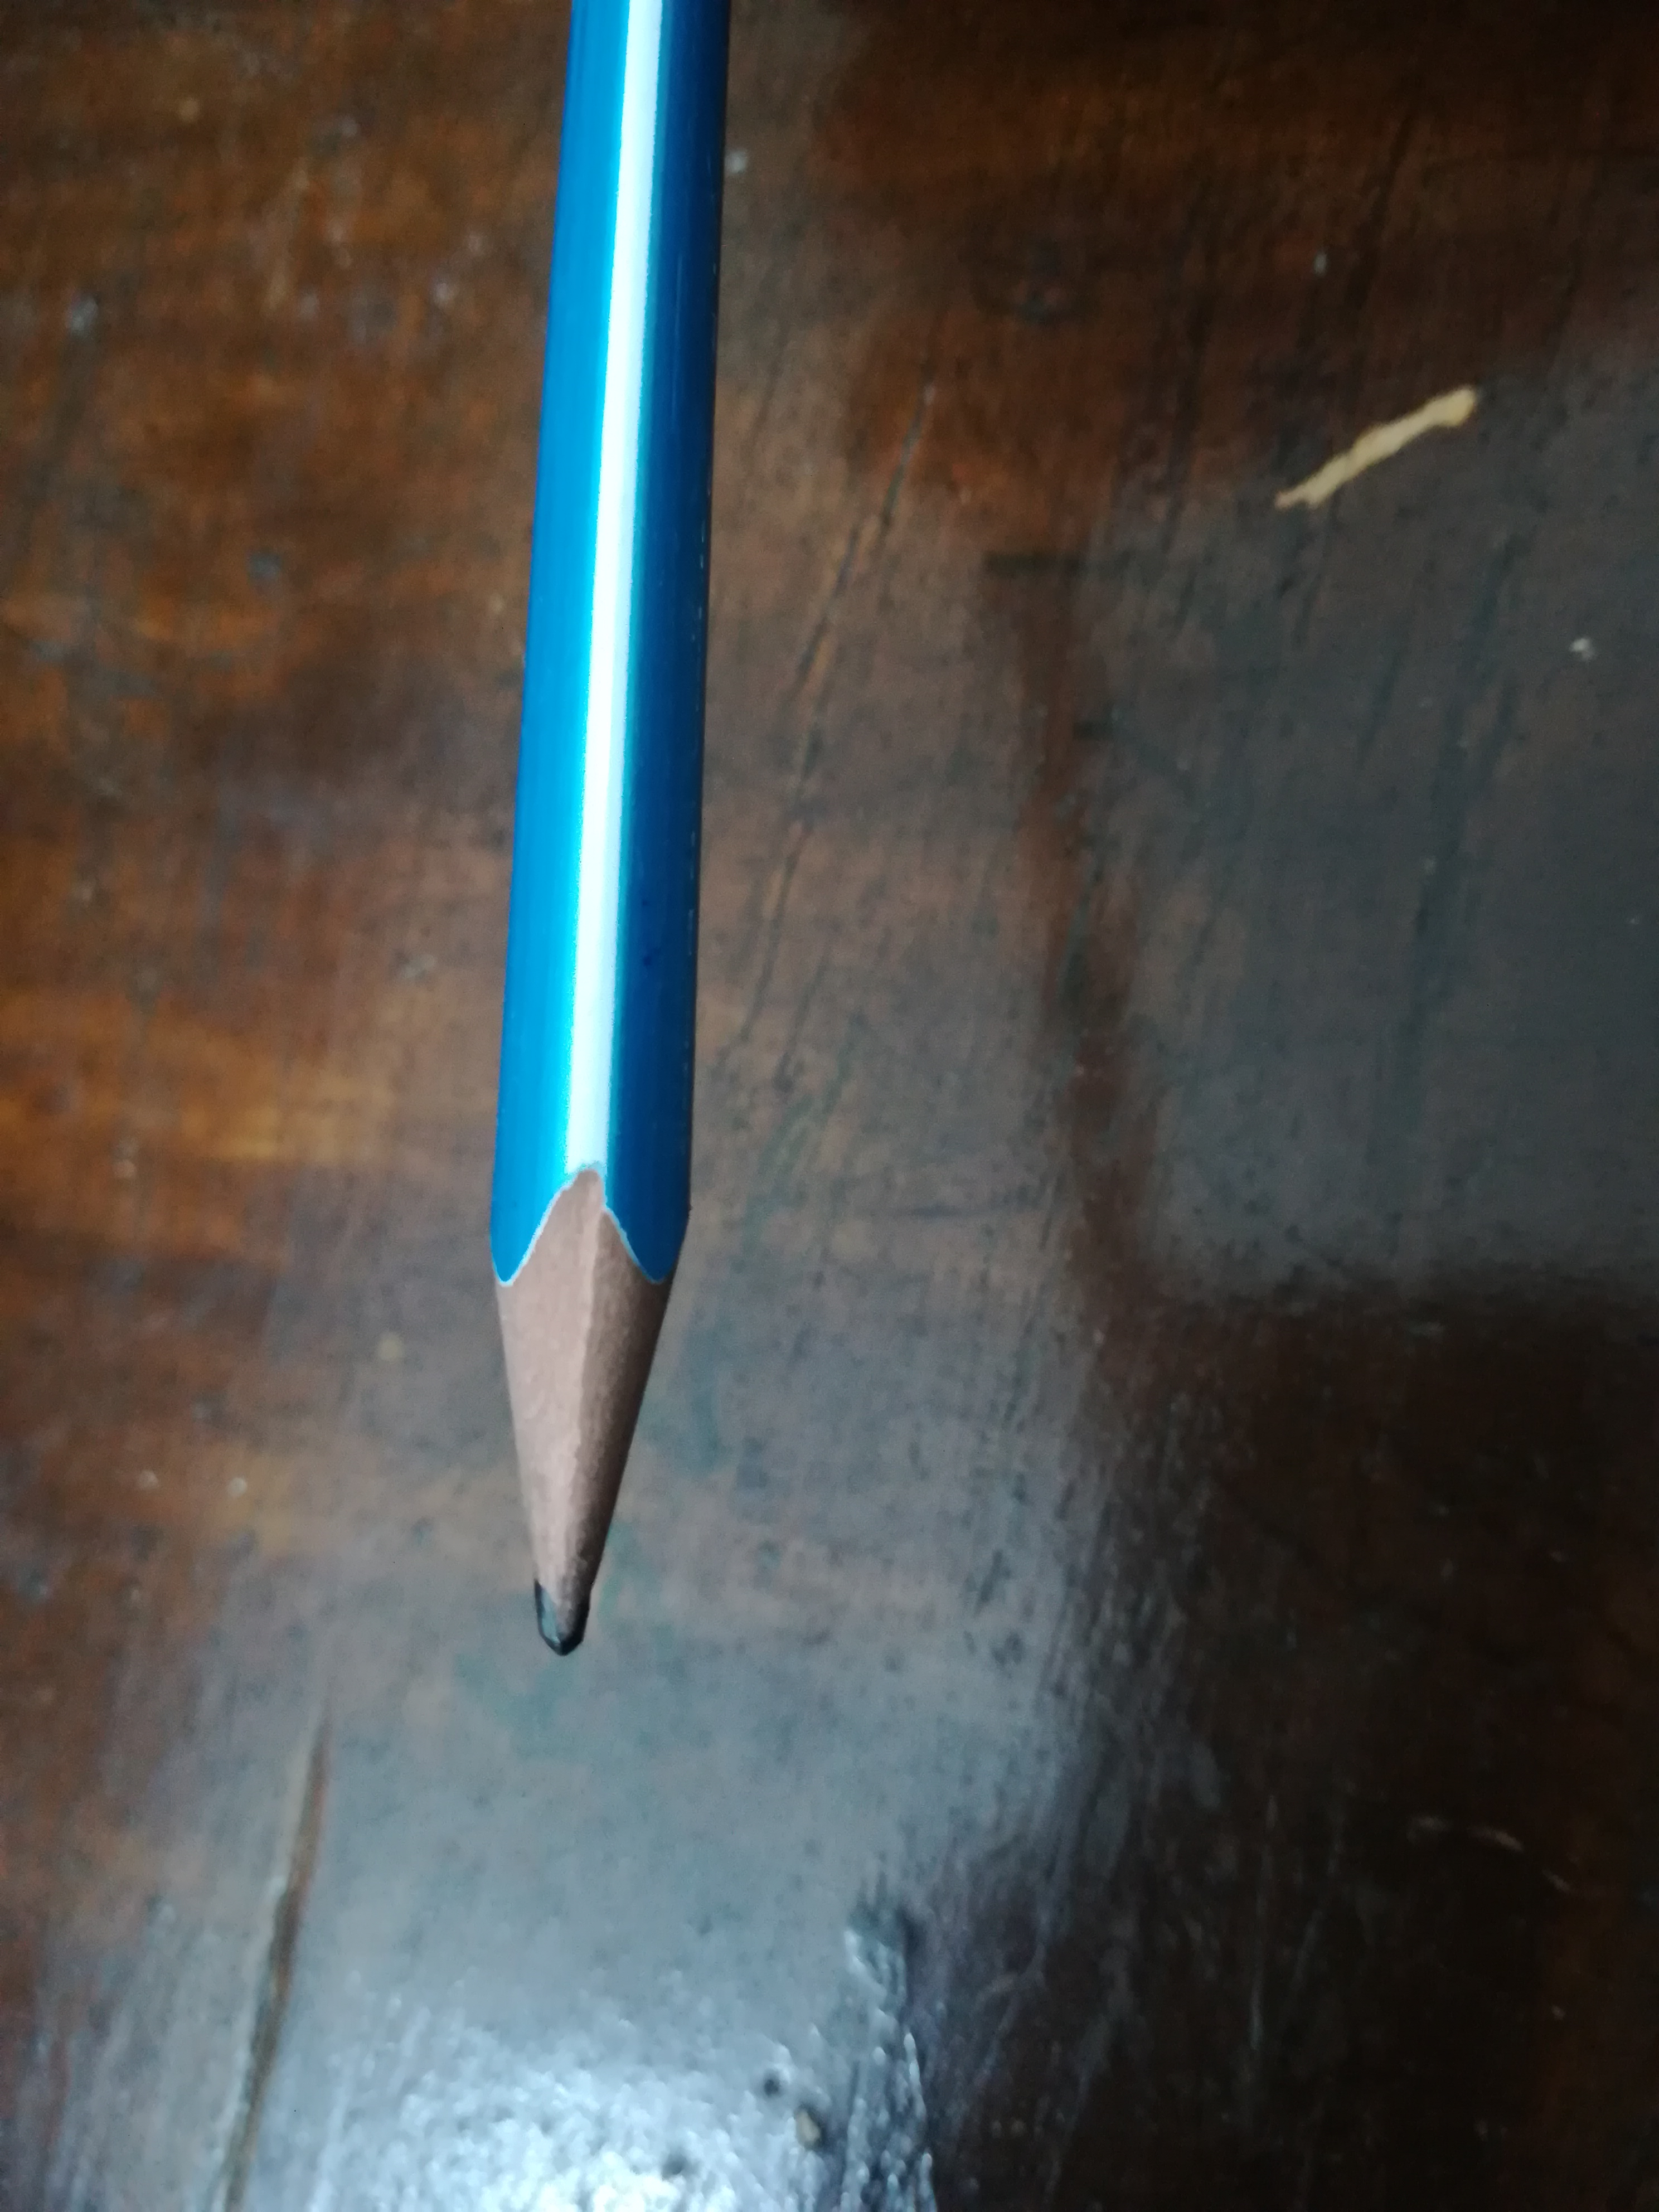pen_tip: (368, 961, 852, 1756)
